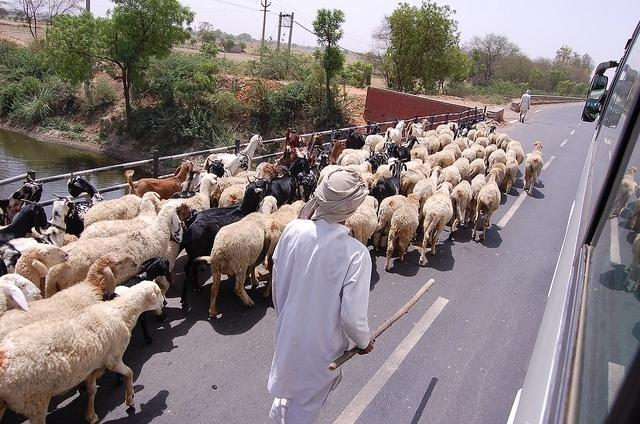bus: (505, 18, 640, 418)
